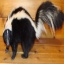skunk: (3, 2, 62, 61)
